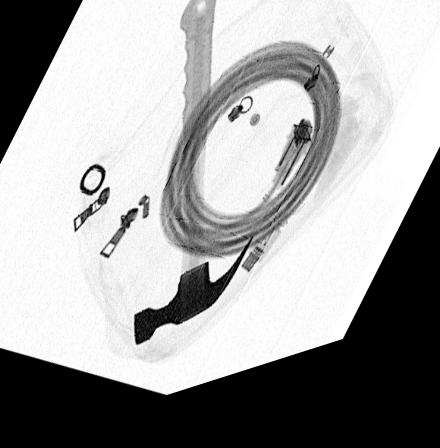Hammer: (131, 0, 254, 355)
